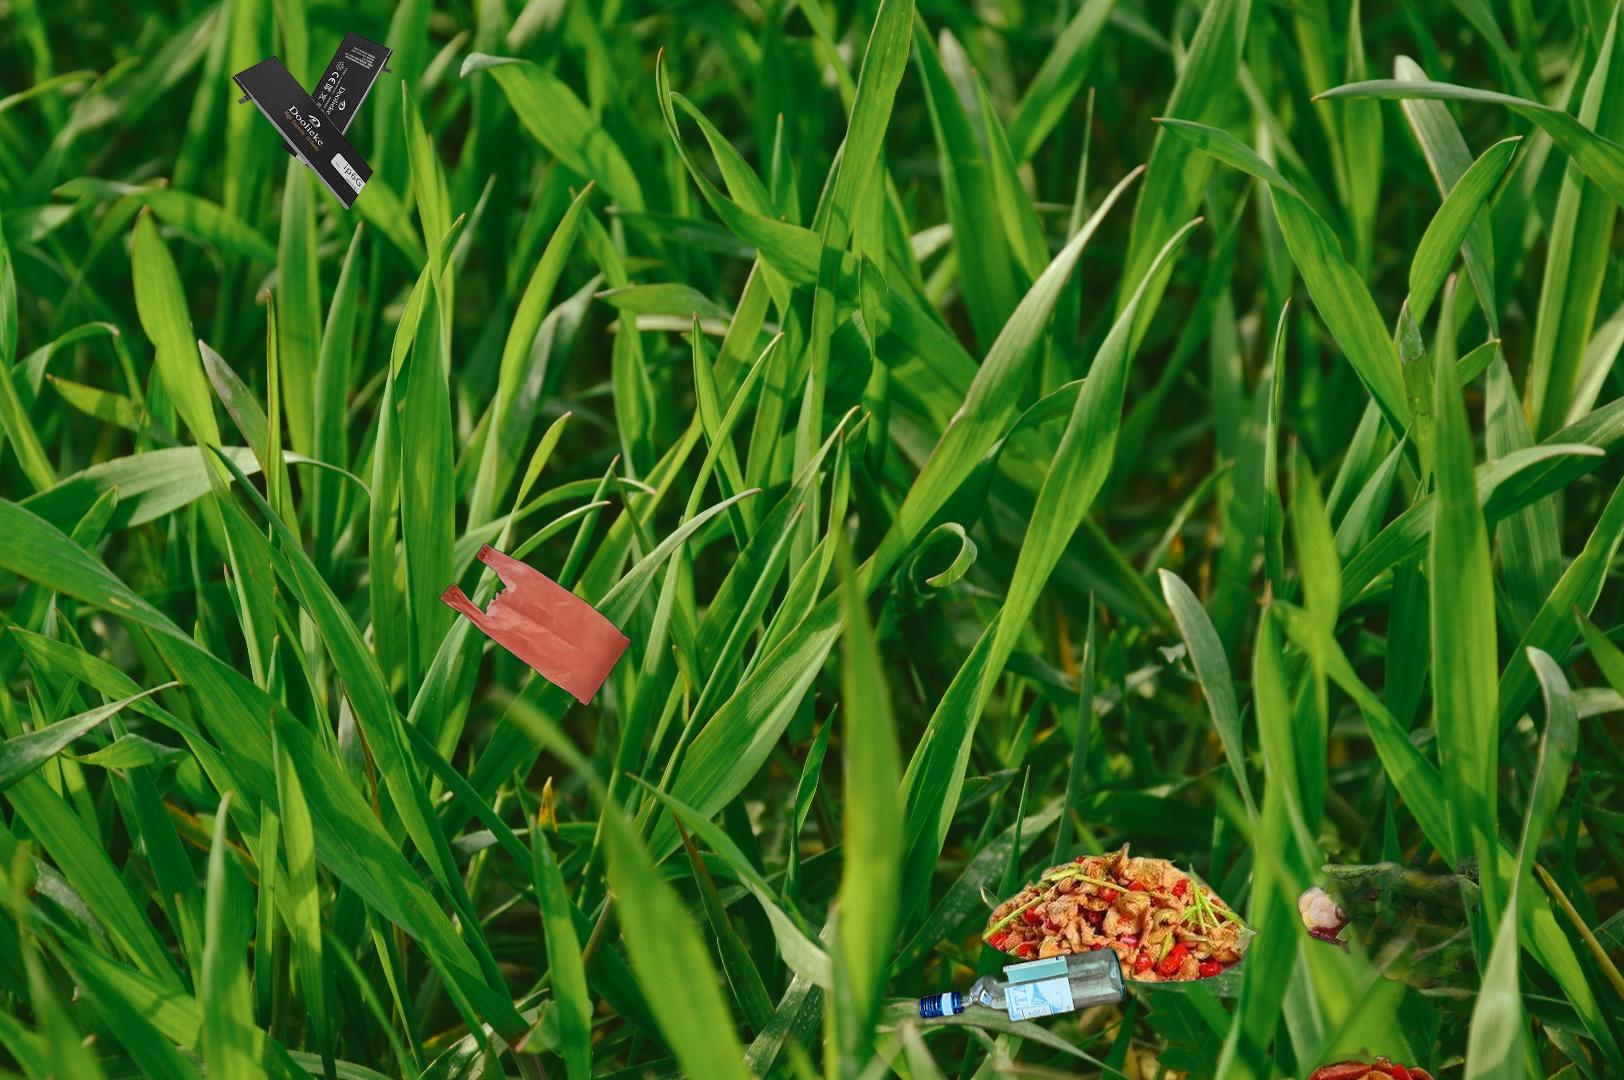battery: (230, 28, 396, 213)
biological: (976, 835, 1481, 1080)
glass: (913, 941, 1131, 1029)
plastic-bag: (439, 540, 634, 709)
